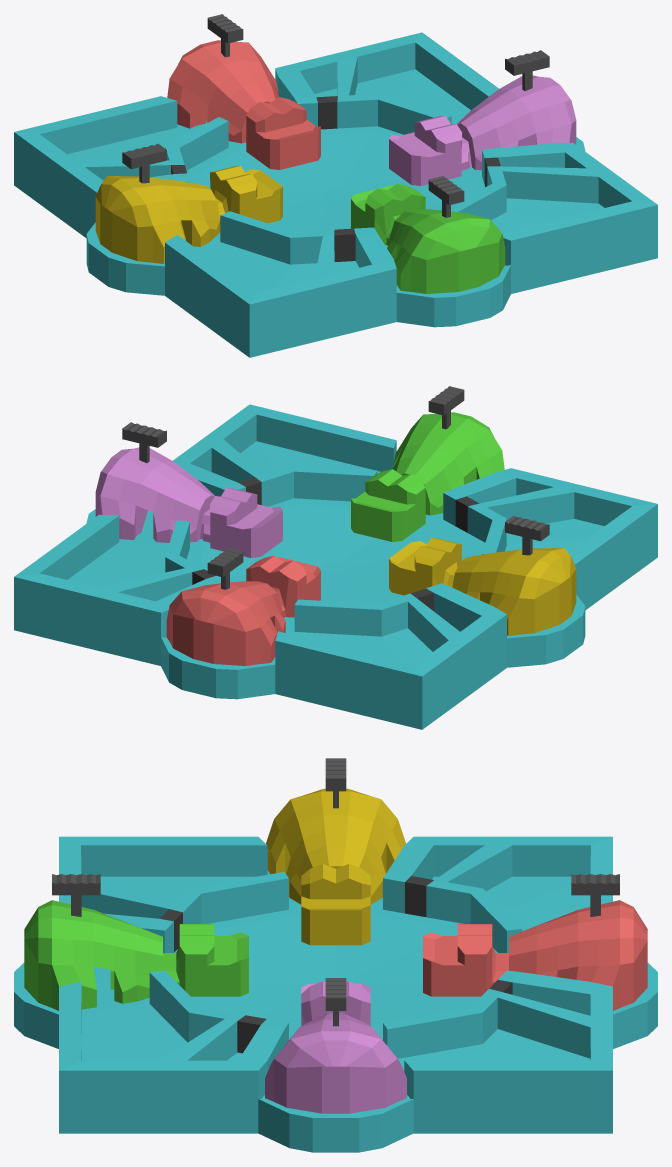
Rendered from Hungry Hippos.fbx.
3 views of the same model, one above another, from view 1: azimuth 30°, elevation 25°; view 2: azimuth 150°, elevation 25°; view 3: azimuth 270°, elevation 25° (orthographic). The views are drawn at different scales.
Visible parts, largest first — view 1: Hungry Hippos, Yellow Hippo, Green Hippo, Red Hipo, Pink Hippo, Head.001, Head.003, Head.002, Head, Trigger.003, Trigger.002, Trigger.001 (+3 smaller); view 2: Hungry Hippos, Red Hipo, Yellow Hippo, Pink Hippo, Green Hippo, Head, Head.003, Head.002, Head.001, Trigger.003, Trigger.002, Trigger (+1 smaller); view 3: Hungry Hippos, Green Hippo, Pink Hippo, Yellow Hippo, Red Hipo, Head.002, Head.001, Head, Head.003, Trigger.001, Trigger, Lever 2 (+3 smaller).
Boxes of the visible parts, box(x1,y1,x2,y2) form: Hungry Hippos: box(14, 32, 657, 357); Yellow Hippo: box(95, 176, 220, 263); Green Hippo: box(387, 209, 505, 293); Red Hipo: box(167, 40, 278, 143); Pink Hippo: box(457, 75, 576, 170); Head.001: box(246, 97, 320, 169); Head.003: box(389, 116, 469, 185); Head.002: box(209, 166, 282, 223); Head: box(351, 183, 425, 245); Trigger.003: box(505, 50, 549, 90); Trigger.002: box(122, 143, 166, 183); Trigger.001: box(207, 14, 243, 57); Hungry Hippos: box(14, 404, 657, 729); Red Hipo: box(166, 581, 285, 665); Yellow Hippo: box(452, 548, 576, 635); Pink Hippo: box(95, 447, 214, 542); Green Hippo: box(393, 412, 504, 515); Head: box(351, 469, 425, 541); Head.003: box(202, 488, 282, 557); Head.002: box(389, 538, 462, 595); Head.001: box(246, 555, 320, 617); Trigger.003: box(122, 422, 166, 462); Trigger.002: box(505, 515, 549, 555); Trigger: box(428, 386, 464, 429); Hungry Hippos: box(14, 836, 657, 1152); Green Hippo: box(24, 900, 162, 1010); Pink Hippo: box(265, 1012, 406, 1113); Yellow Hippo: box(266, 788, 405, 904); Red Hipo: box(509, 900, 647, 1010); Head.002: box(301, 864, 370, 945); Head.001: box(423, 924, 505, 996); Head: box(166, 924, 248, 996); Head.003: box(301, 981, 370, 1025); Trigger.001: box(571, 874, 619, 916); Trigger: box(52, 874, 100, 916); Lever 2: box(405, 876, 433, 916).
Size of the model in its own units: 372 by 88 by 372.
